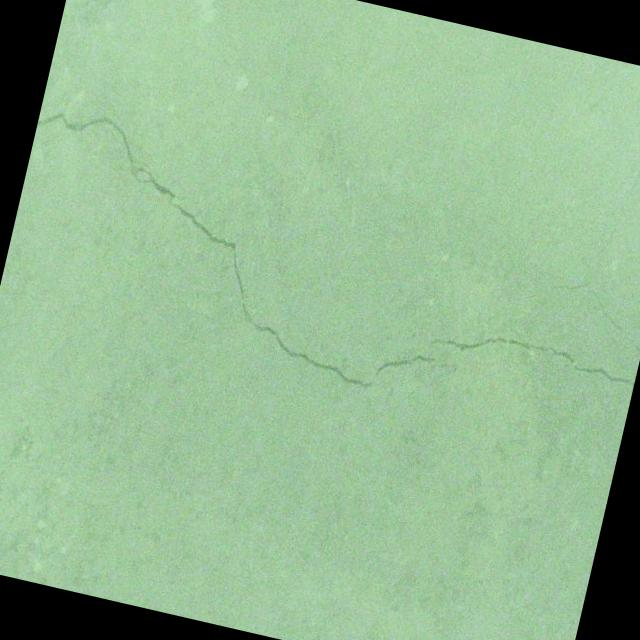crack: (0, 101, 492, 408), (422, 316, 638, 394), (543, 275, 640, 354)
